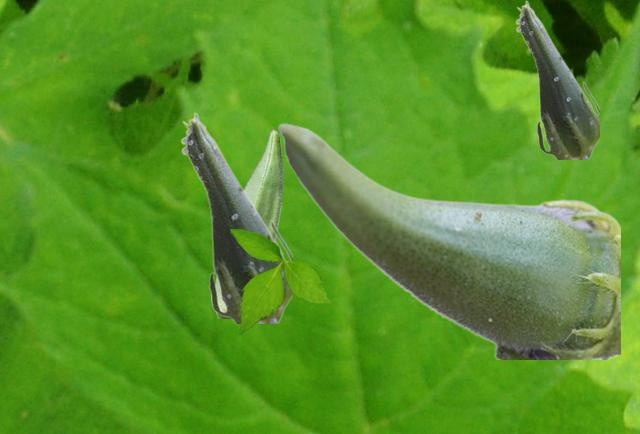okra: (277, 122, 619, 358), (180, 112, 291, 322), (515, 0, 598, 158), (215, 129, 282, 317)
